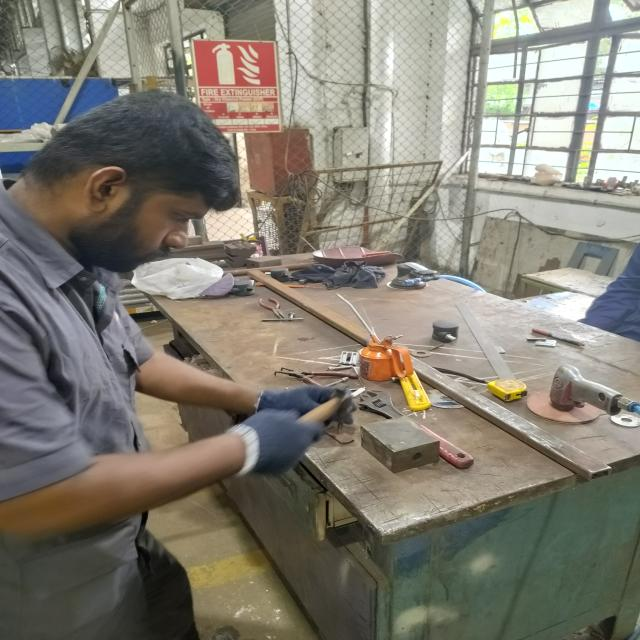Gloves-Detection: (230, 422, 316, 472), (255, 385, 333, 420)
